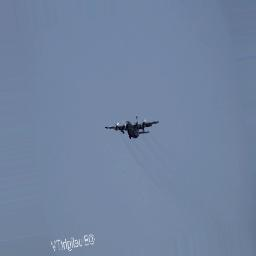Airplane: (104, 116, 158, 142)
